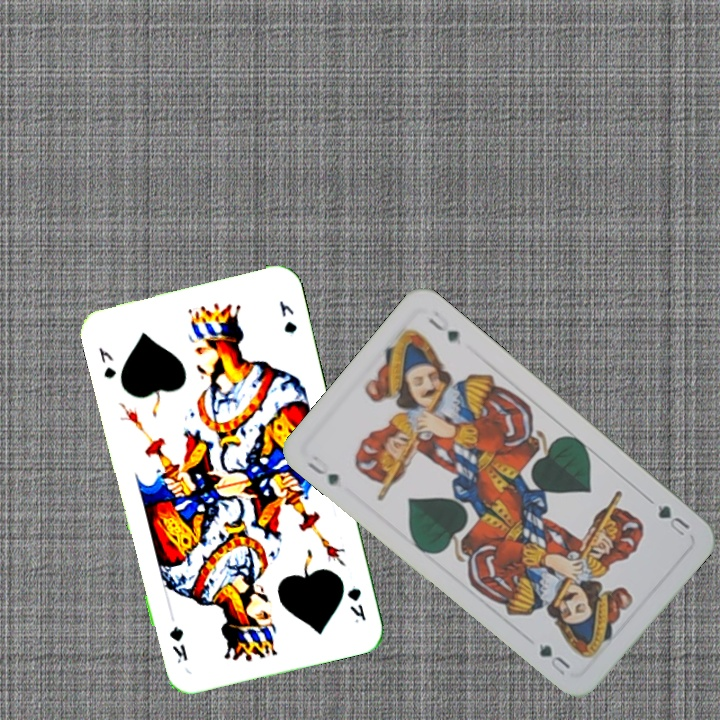GK: (343, 582, 369, 625), (94, 343, 119, 381)
GU: (653, 500, 693, 541), (302, 450, 342, 488)
